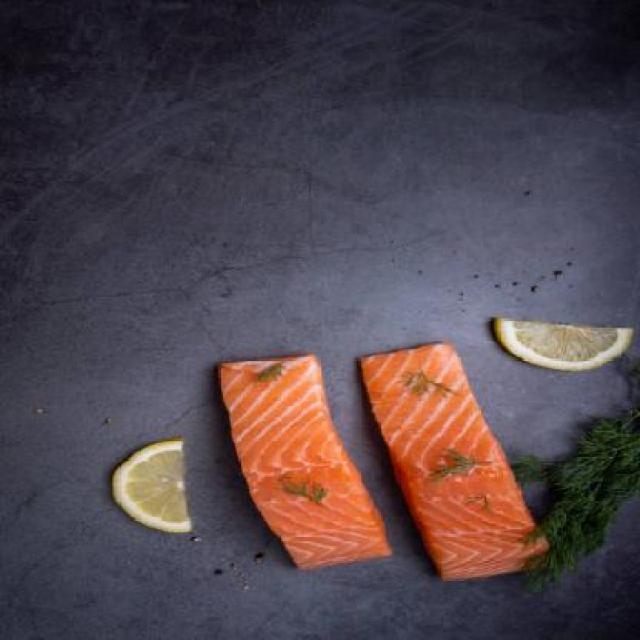salmon: (343, 332, 571, 585), (196, 337, 400, 581)
